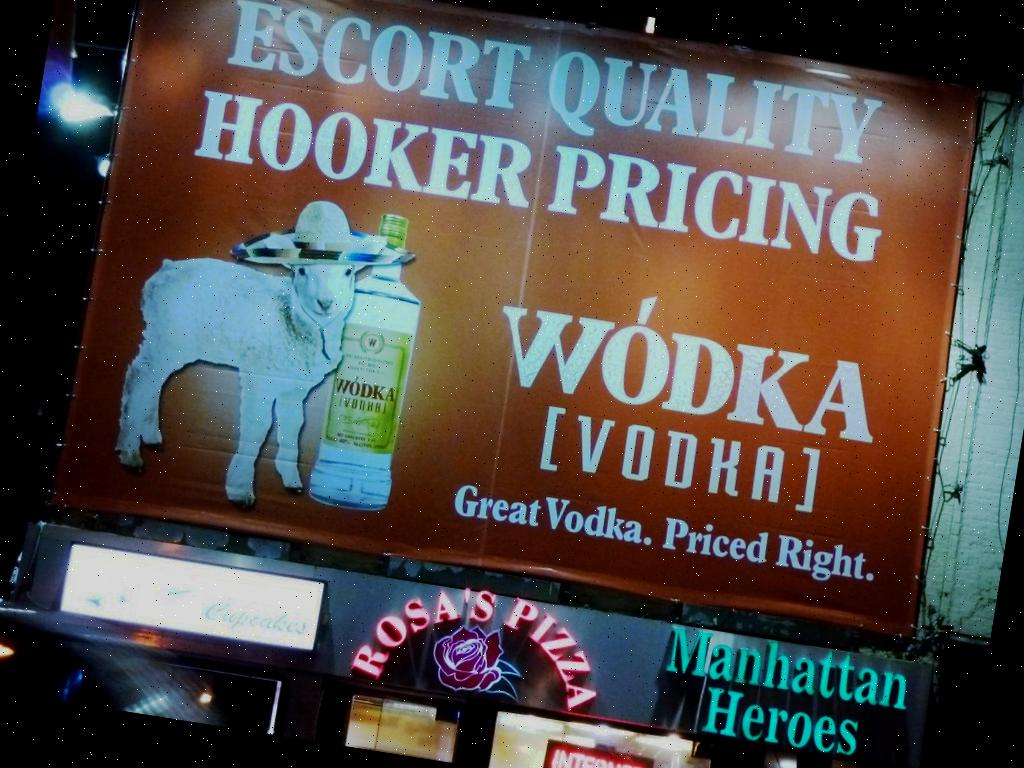Sheep: (134, 201, 374, 532)
